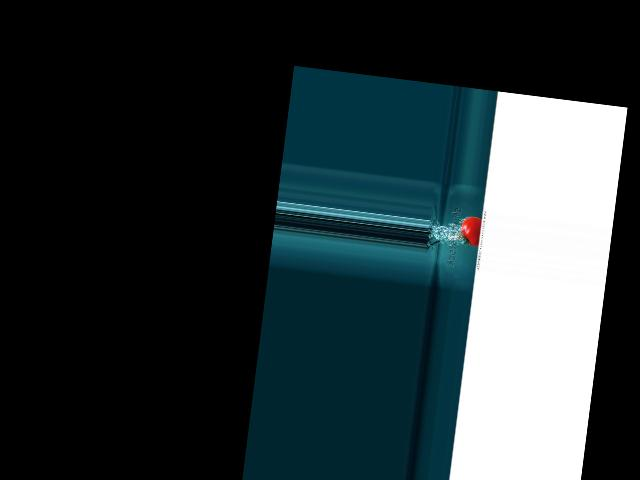tomato: (459, 215, 482, 247)
